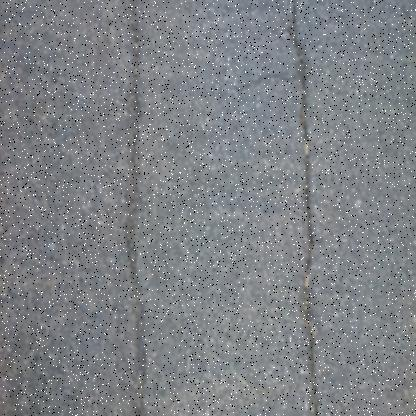Cracks: (287, 0, 324, 416), (121, 0, 152, 416)
